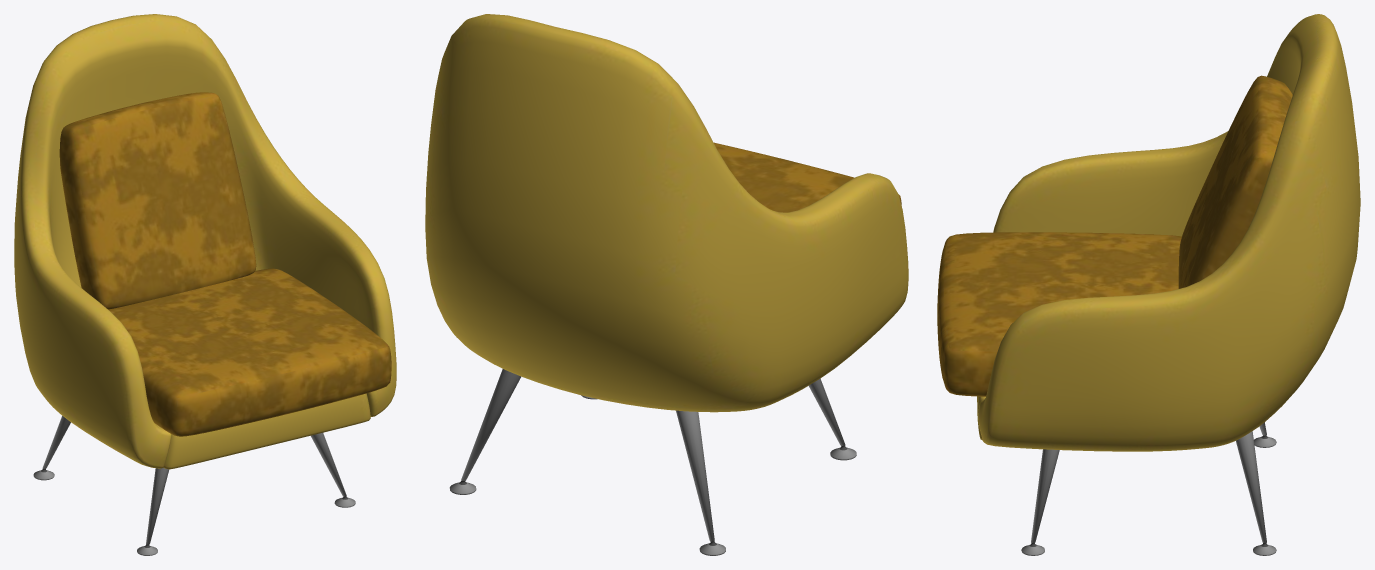
Rendered from armchair2.glb.
3 renders of one model, left to right at view 1: azimuth 30°, elevation 25°; view 2: azimuth 150°, elevation 25°; view 3: azimuth 270°, elevation 25°, orthographic. The views are drawn at different scales.
Visible parts, largest first — view 1: butaque.002_Cube.218, butaque_potes.002_Tube.012; view 2: butaque.002_Cube.218, butaque_potes.002_Tube.012; view 3: butaque.002_Cube.218, butaque_potes.002_Tube.012.
Boxes of the visible parts, box(x1,y1,x2,y2) form: butaque.002_Cube.218: box(14, 14, 396, 469); butaque_potes.002_Tube.012: box(33, 416, 355, 555); butaque.002_Cube.218: box(425, 14, 908, 412); butaque_potes.002_Tube.012: box(449, 369, 856, 555); butaque.002_Cube.218: box(937, 14, 1360, 451); butaque_potes.002_Tube.012: box(1021, 422, 1276, 555).
Bounding box in the file's own units: 0.728 × 0.9706 × 0.8115.
4 materials, 2 textured.
